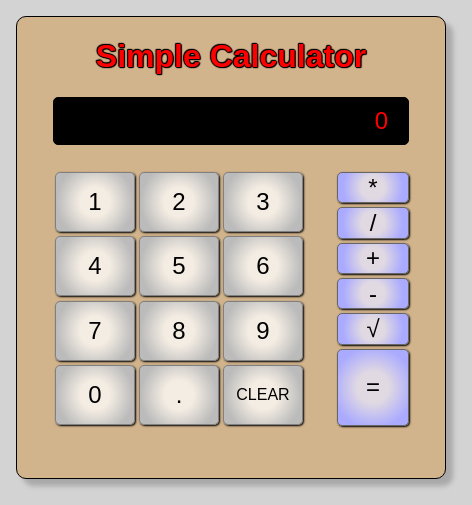
Nums › it responds to user input
The width and height of the screenshot is (472, 505).
Check: the text titled "readout" reads "0", box [375,107,388,134]
Click the button "9" at (263, 331), box [223,301,303,361]
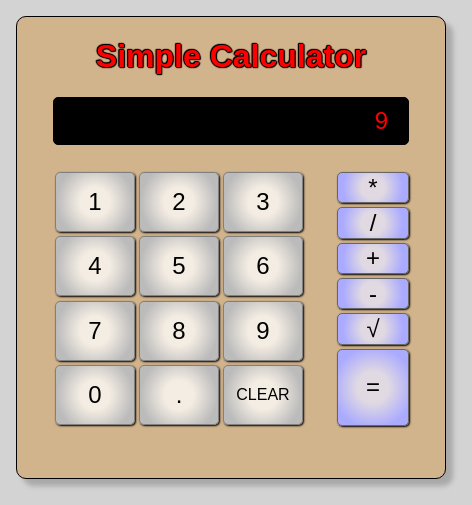
Check: the text titled "readout" reads "9", box [375,107,388,134]
Click the button "5" at (179, 266), box [139,236,219,296]
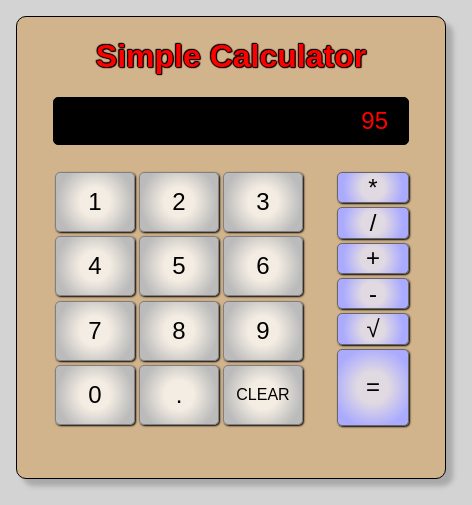
Check: the text titled "readout" reads "95", box [361,107,388,134]
Click the button "3" at (263, 202), box [223,172,303,232]
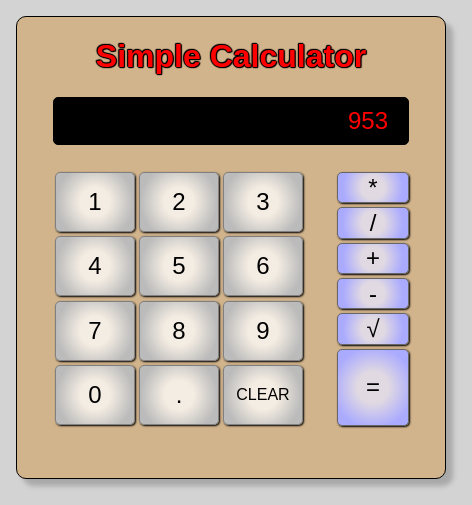
Check: the text titled "readout" reads "953", box [348,107,388,134]
Click the button "." at (179, 395), box [139,365,219,425]
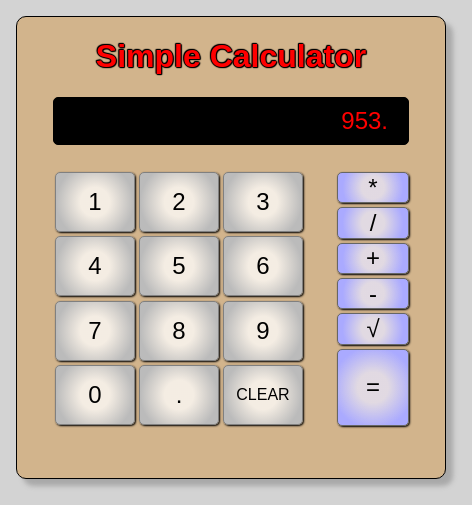
Check: the text titled "readout" reads "953.", box [341,107,388,134]
Click the button "4" at (95, 266), box [55,236,135,296]
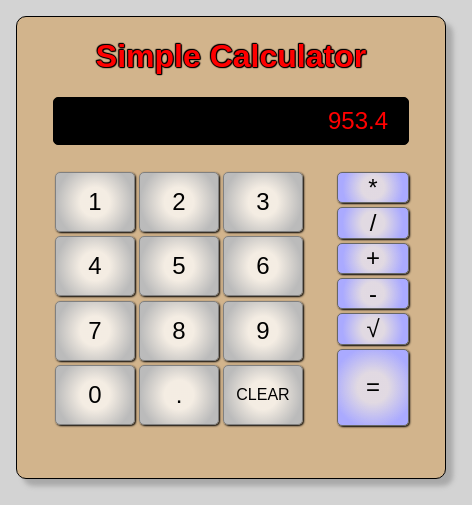
Check: the text titled "readout" reads "953.4", box [328,107,388,134]
Click the button "CLEAR" at (263, 395), box [223,365,303,425]
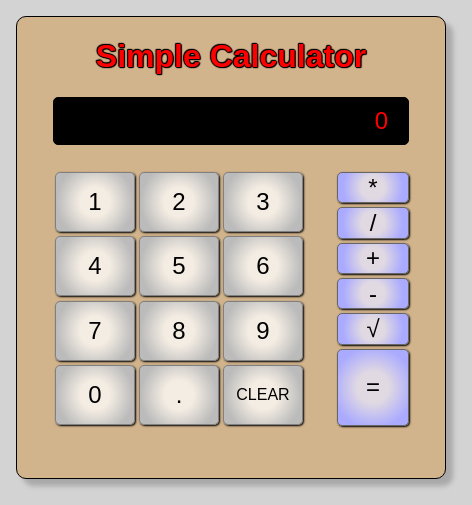
Check: the text titled "readout" reads "0", box [375,107,388,134]
